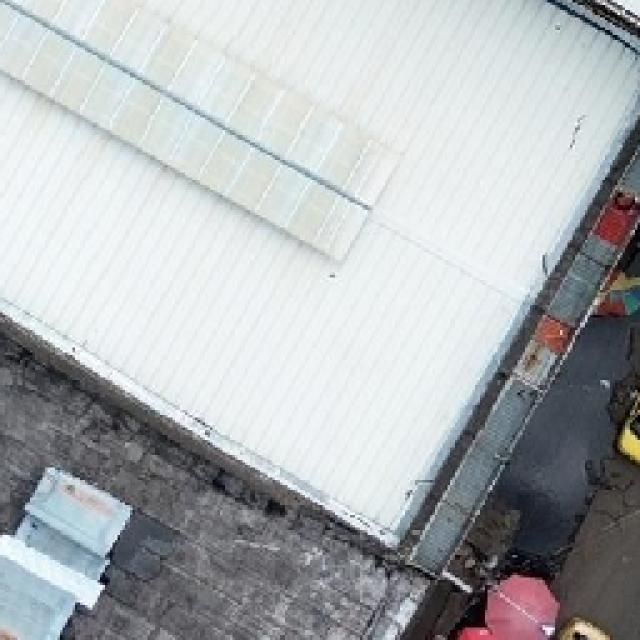vendedor_ambulante: (481, 569, 563, 640)
